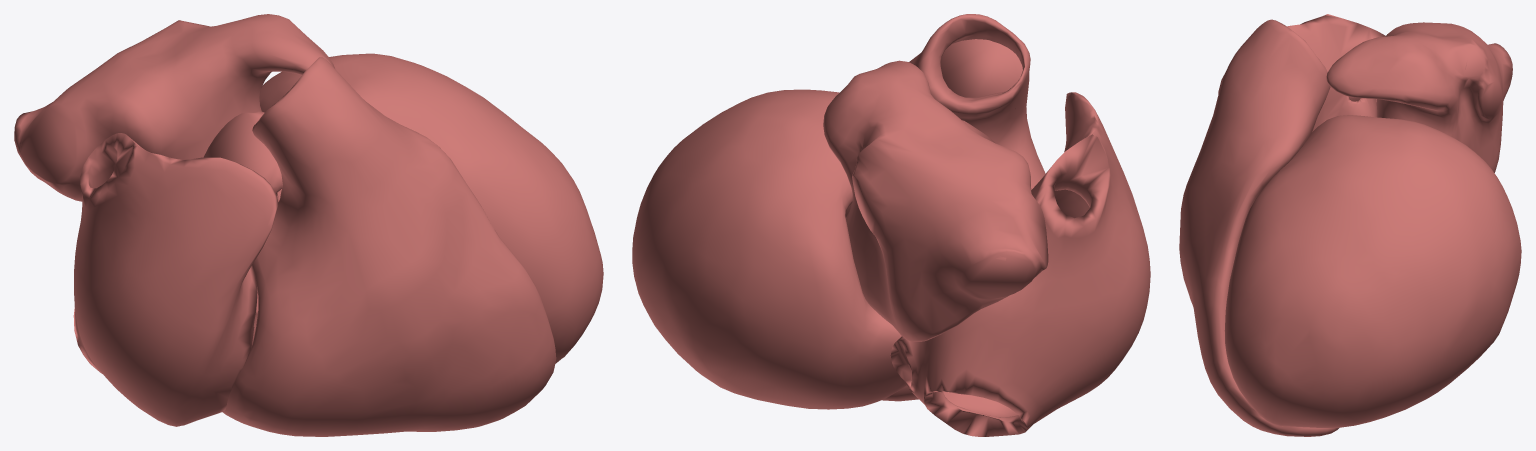
File: vh_f_heart-40.glb
The picture shows the model from 3 angles, left to right: view 1: azimuth 30°, elevation 25°; view 2: azimuth 150°, elevation 25°; view 3: azimuth 270°, elevation 25°; orthographic projection. The views are drawn at different scales.
Visible parts, largest first — view 1: VH_F_right_ventricle, VH_F_right_cardiac_atrium, VH_F_left_ventricle, VH_F_left_cardiac_atrium, VH_F_aortic_valve; view 2: VH_F_left_ventricle, VH_F_left_cardiac_atrium, VH_F_right_cardiac_atrium, VH_F_right_ventricle, VH_F_pulmonary_valve; view 3: VH_F_left_ventricle, VH_F_right_ventricle, VH_F_left_cardiac_atrium, VH_F_right_cardiac_atrium, VH_F_aortic_valve.
Part boxes in pixels (bbox=[...]): VH_F_right_ventricle: bbox=[222, 57, 556, 436]; VH_F_right_cardiac_atrium: bbox=[73, 133, 278, 426]; VH_F_left_ventricle: bbox=[259, 53, 603, 363]; VH_F_left_cardiac_atrium: bbox=[14, 14, 334, 201]; VH_F_aortic_valve: bbox=[203, 111, 282, 202]; VH_F_left_ventricle: bbox=[632, 89, 906, 409]; VH_F_left_cardiac_atrium: bbox=[823, 60, 1048, 341]; VH_F_right_cardiac_atrium: bbox=[890, 92, 1150, 436]; VH_F_right_ventricle: bbox=[882, 14, 1045, 401]; VH_F_pulmonary_valve: bbox=[940, 39, 1022, 108]; VH_F_left_ventricle: bbox=[1224, 115, 1521, 427]; VH_F_right_ventricle: bbox=[1179, 19, 1339, 436]; VH_F_left_cardiac_atrium: bbox=[1326, 22, 1512, 172]; VH_F_right_cardiac_atrium: bbox=[1218, 14, 1385, 101]; VH_F_aortic_valve: bbox=[1312, 87, 1377, 131].
Size of the model in its own units: 0.1425 by 0.11 by 0.1015.
